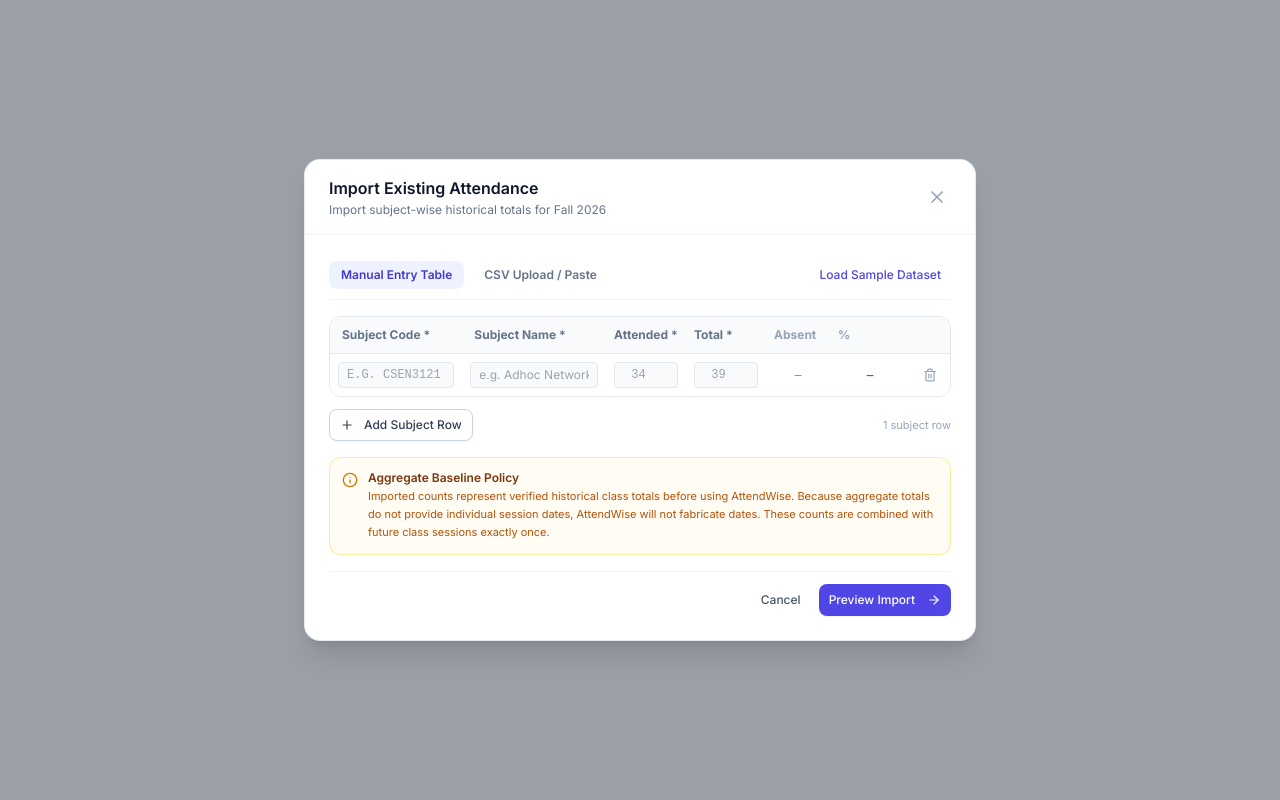
Scenario: Historical Attendance Import Modal › switches to CSV upload tab and displays CSV template information
Click the button "CSV Upload / Paste".
click(541, 275)  # box [472,261,609,289]
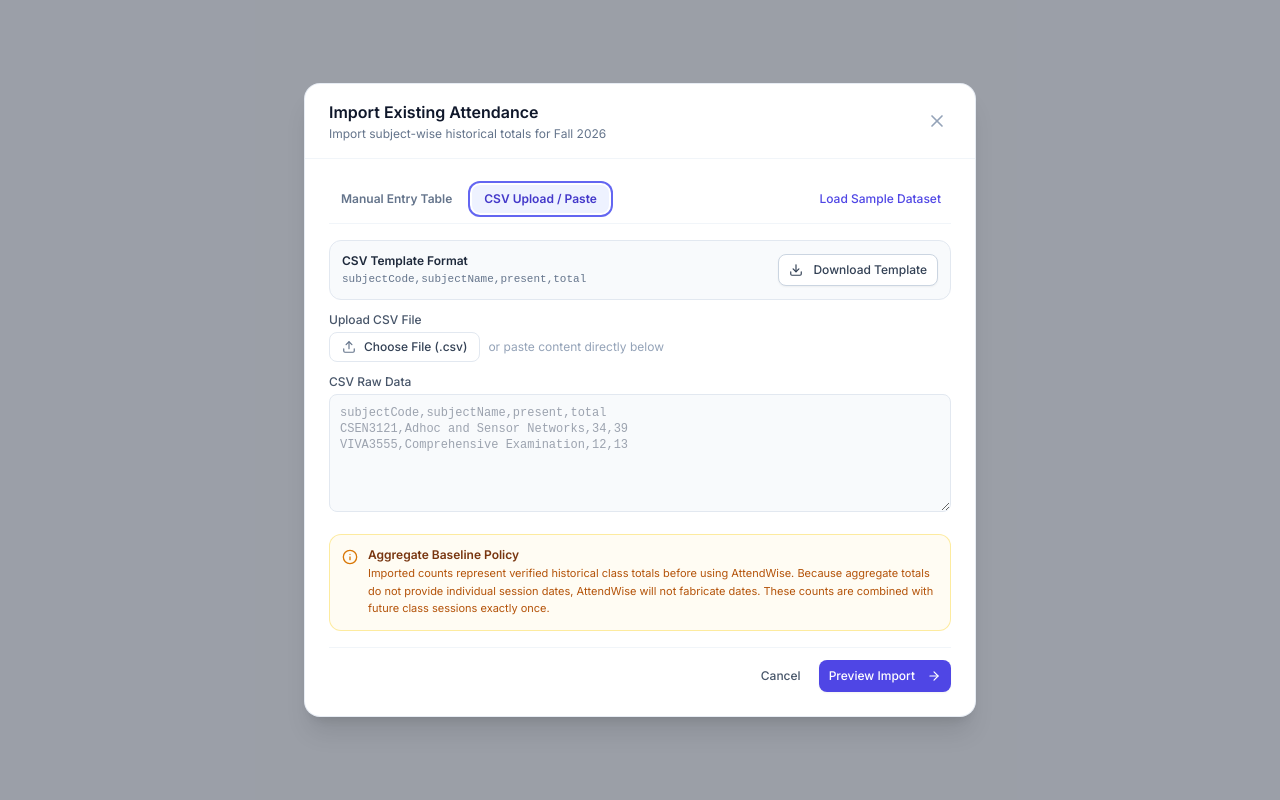
Expected: the text "CSV Template Format" is shown, [342,253,468,268]
Expected: the text "subjectCode,subjectName,present,total" is shown, [342,271,586,287]
Expected: the button "Download Template" is shown, [778,254,938,286]
